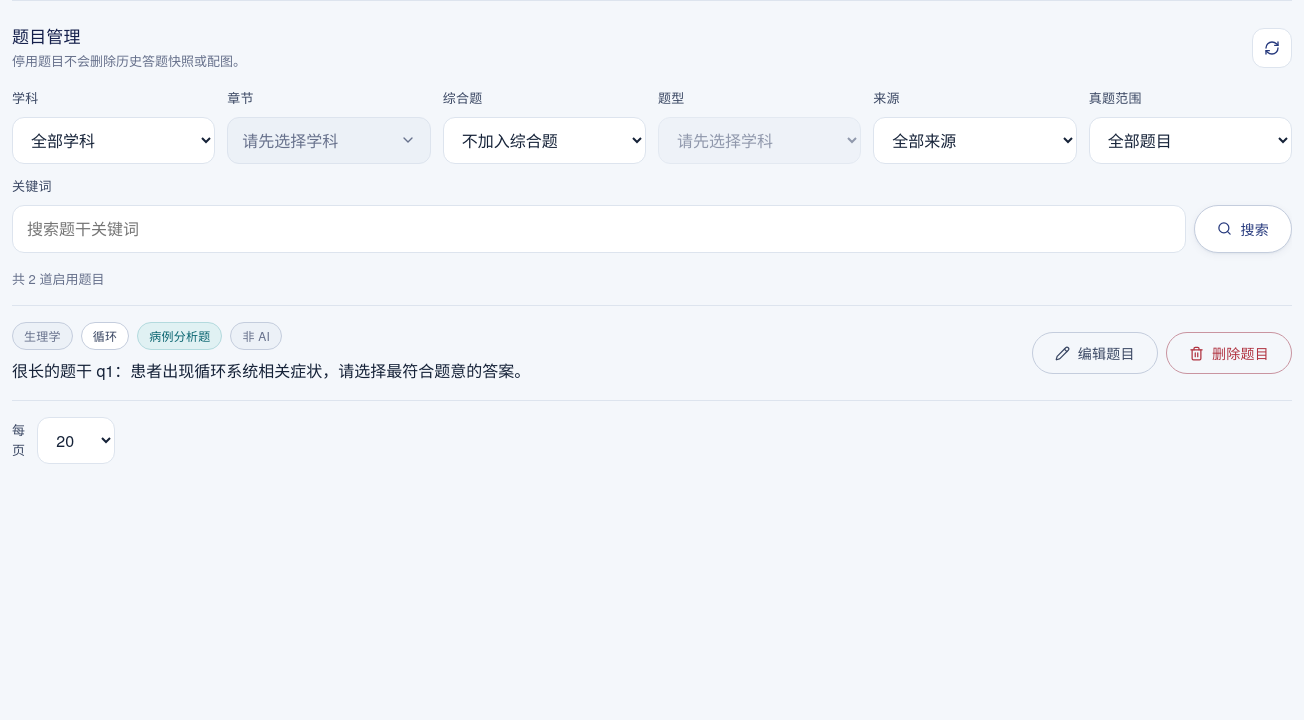
Test: AdminQuizManage › keeps the row and shows a retryable error: 无权删除该题目
Click the button with class "delete-button" at [1229, 353], box [1166,332,1292,374]
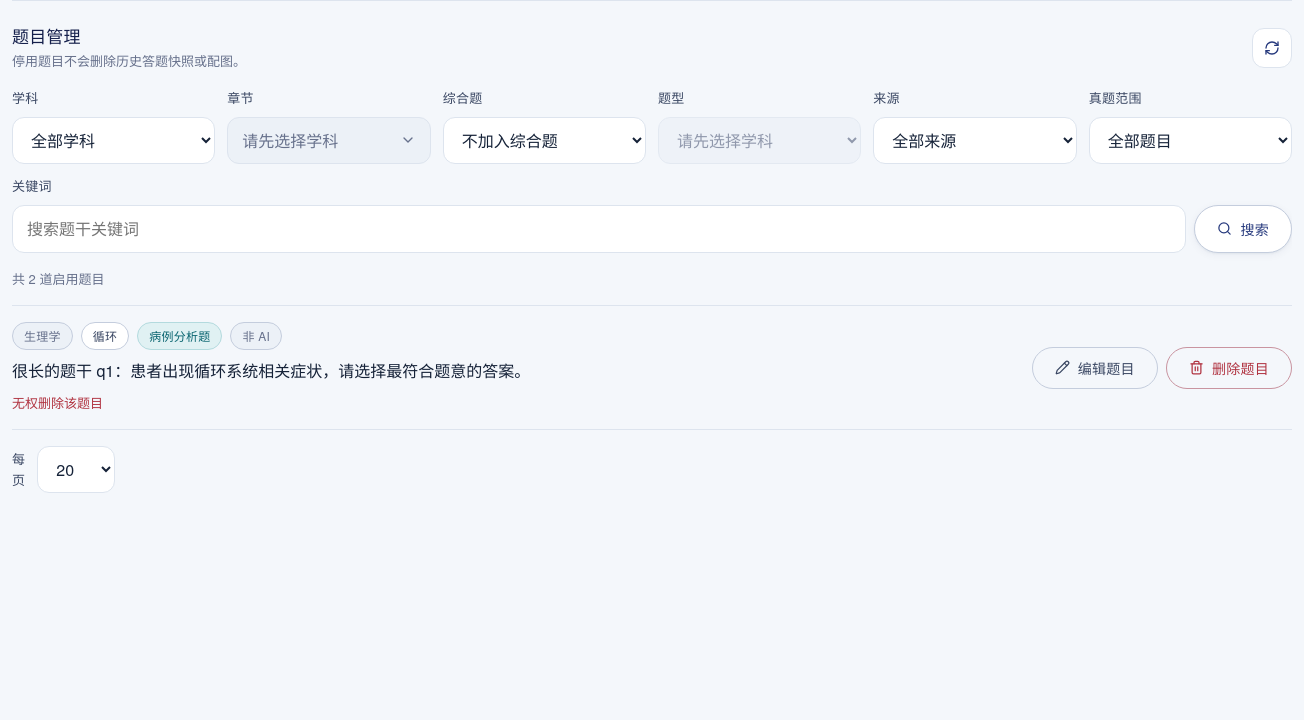
Expected: the text "很长的题干 q1" is shown, [12,358,530,382]
Expected: the text "无权删除该题目" is shown, [12,393,103,412]
